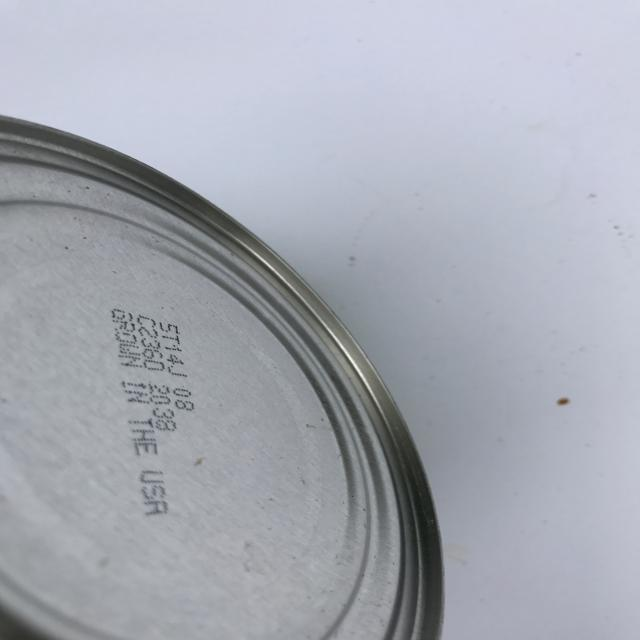metal: (1, 114, 450, 640)
